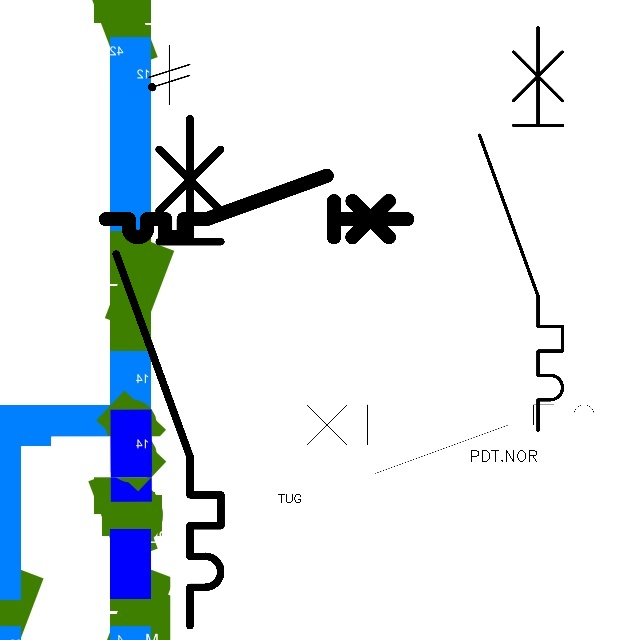interruptor_termomagnetico: (103, 105, 234, 639), (469, 17, 573, 441), (278, 396, 628, 481), (98, 168, 415, 245)
